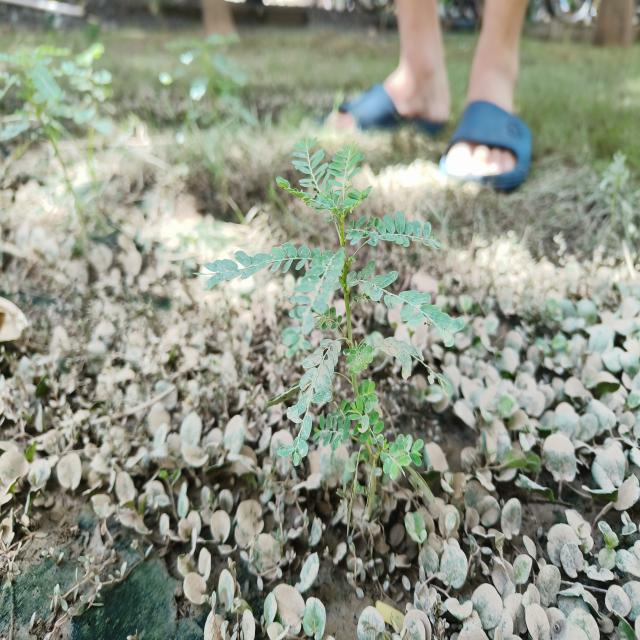weed: (202, 138, 458, 477)
